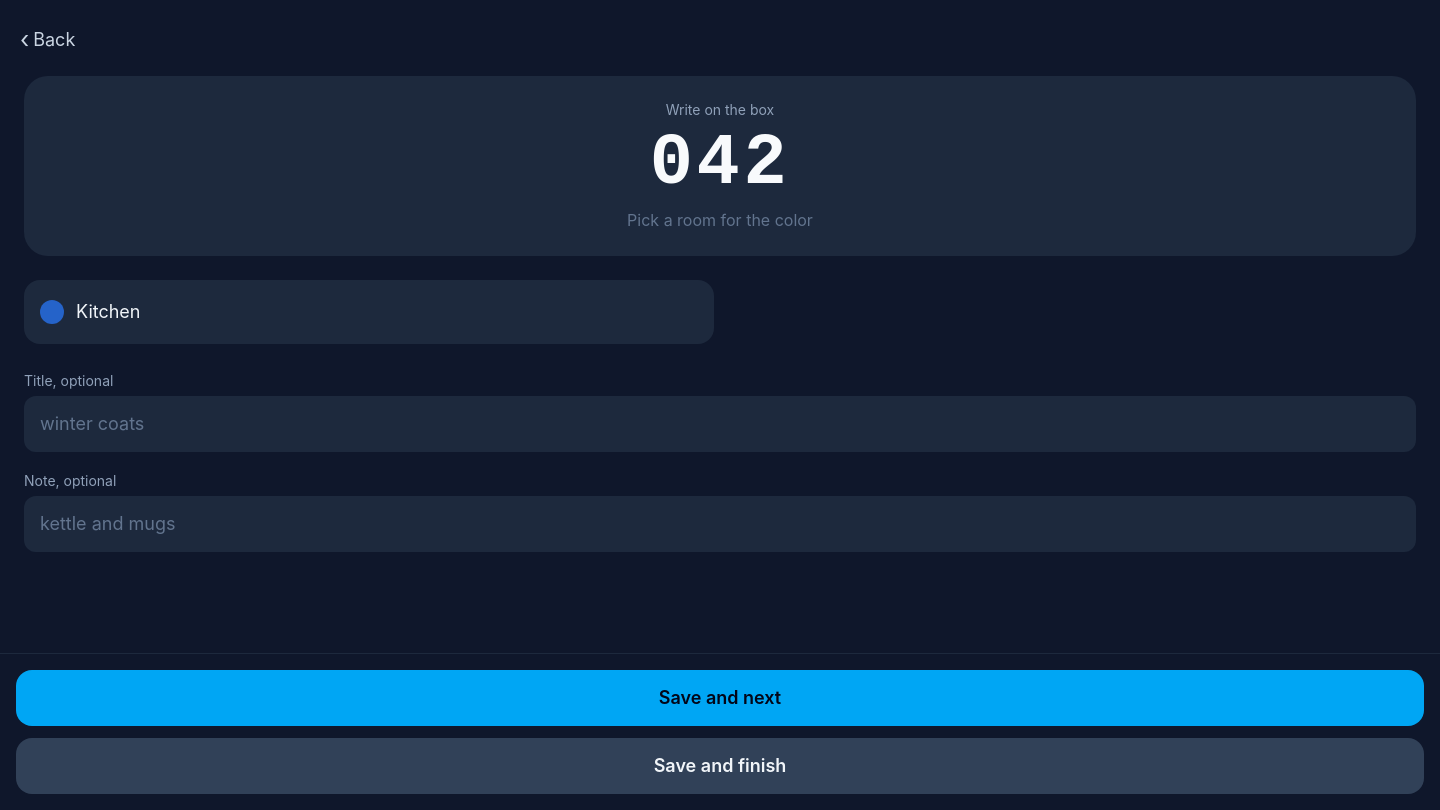
it: AddBox › does not leave on the back control alone
The width and height of the screenshot is (1440, 810).
Click the button "‹ Back".
click(52, 40)  # box [12, 12, 91, 68]
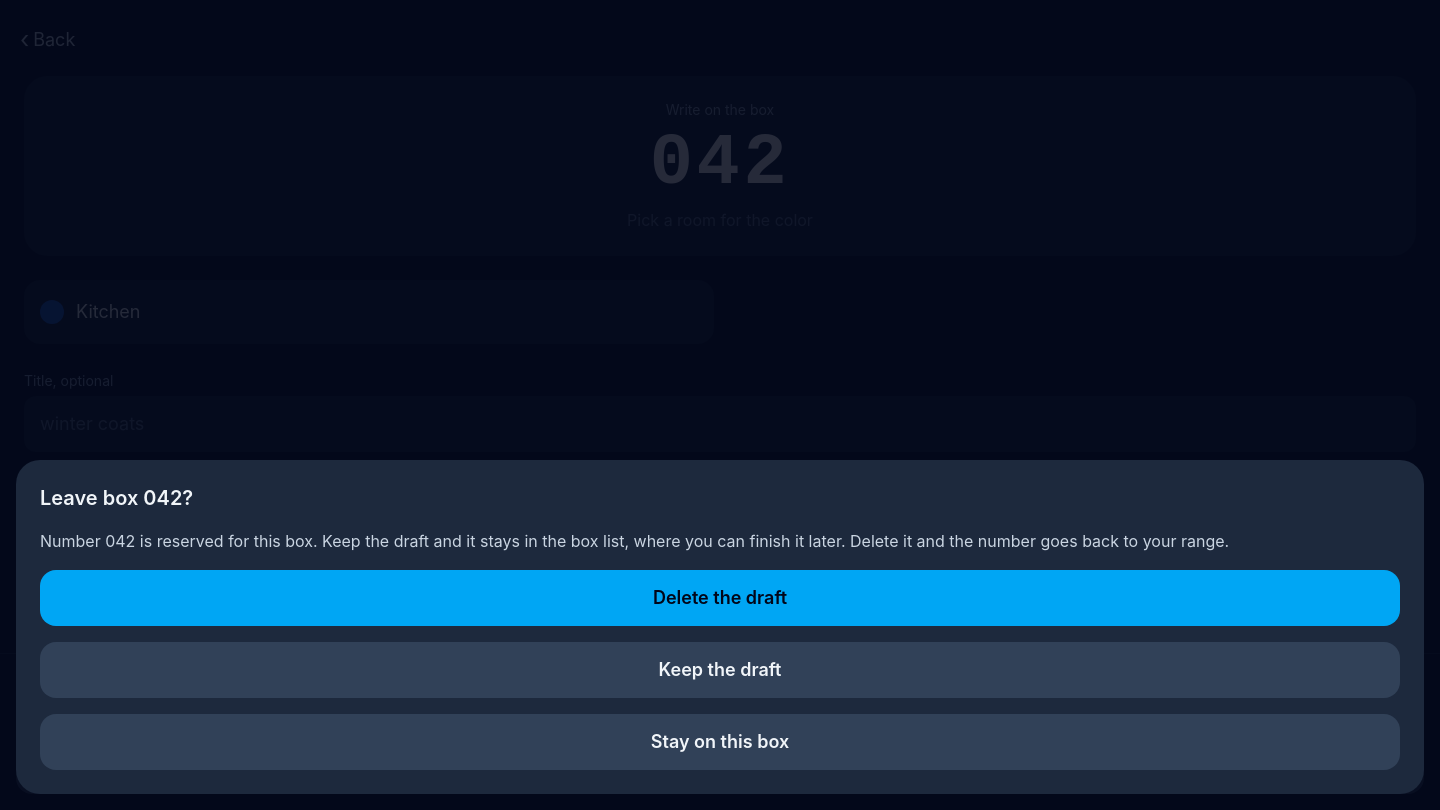
Expected: the heading "Leave box 042?" is shown, [40, 486, 193, 510]
